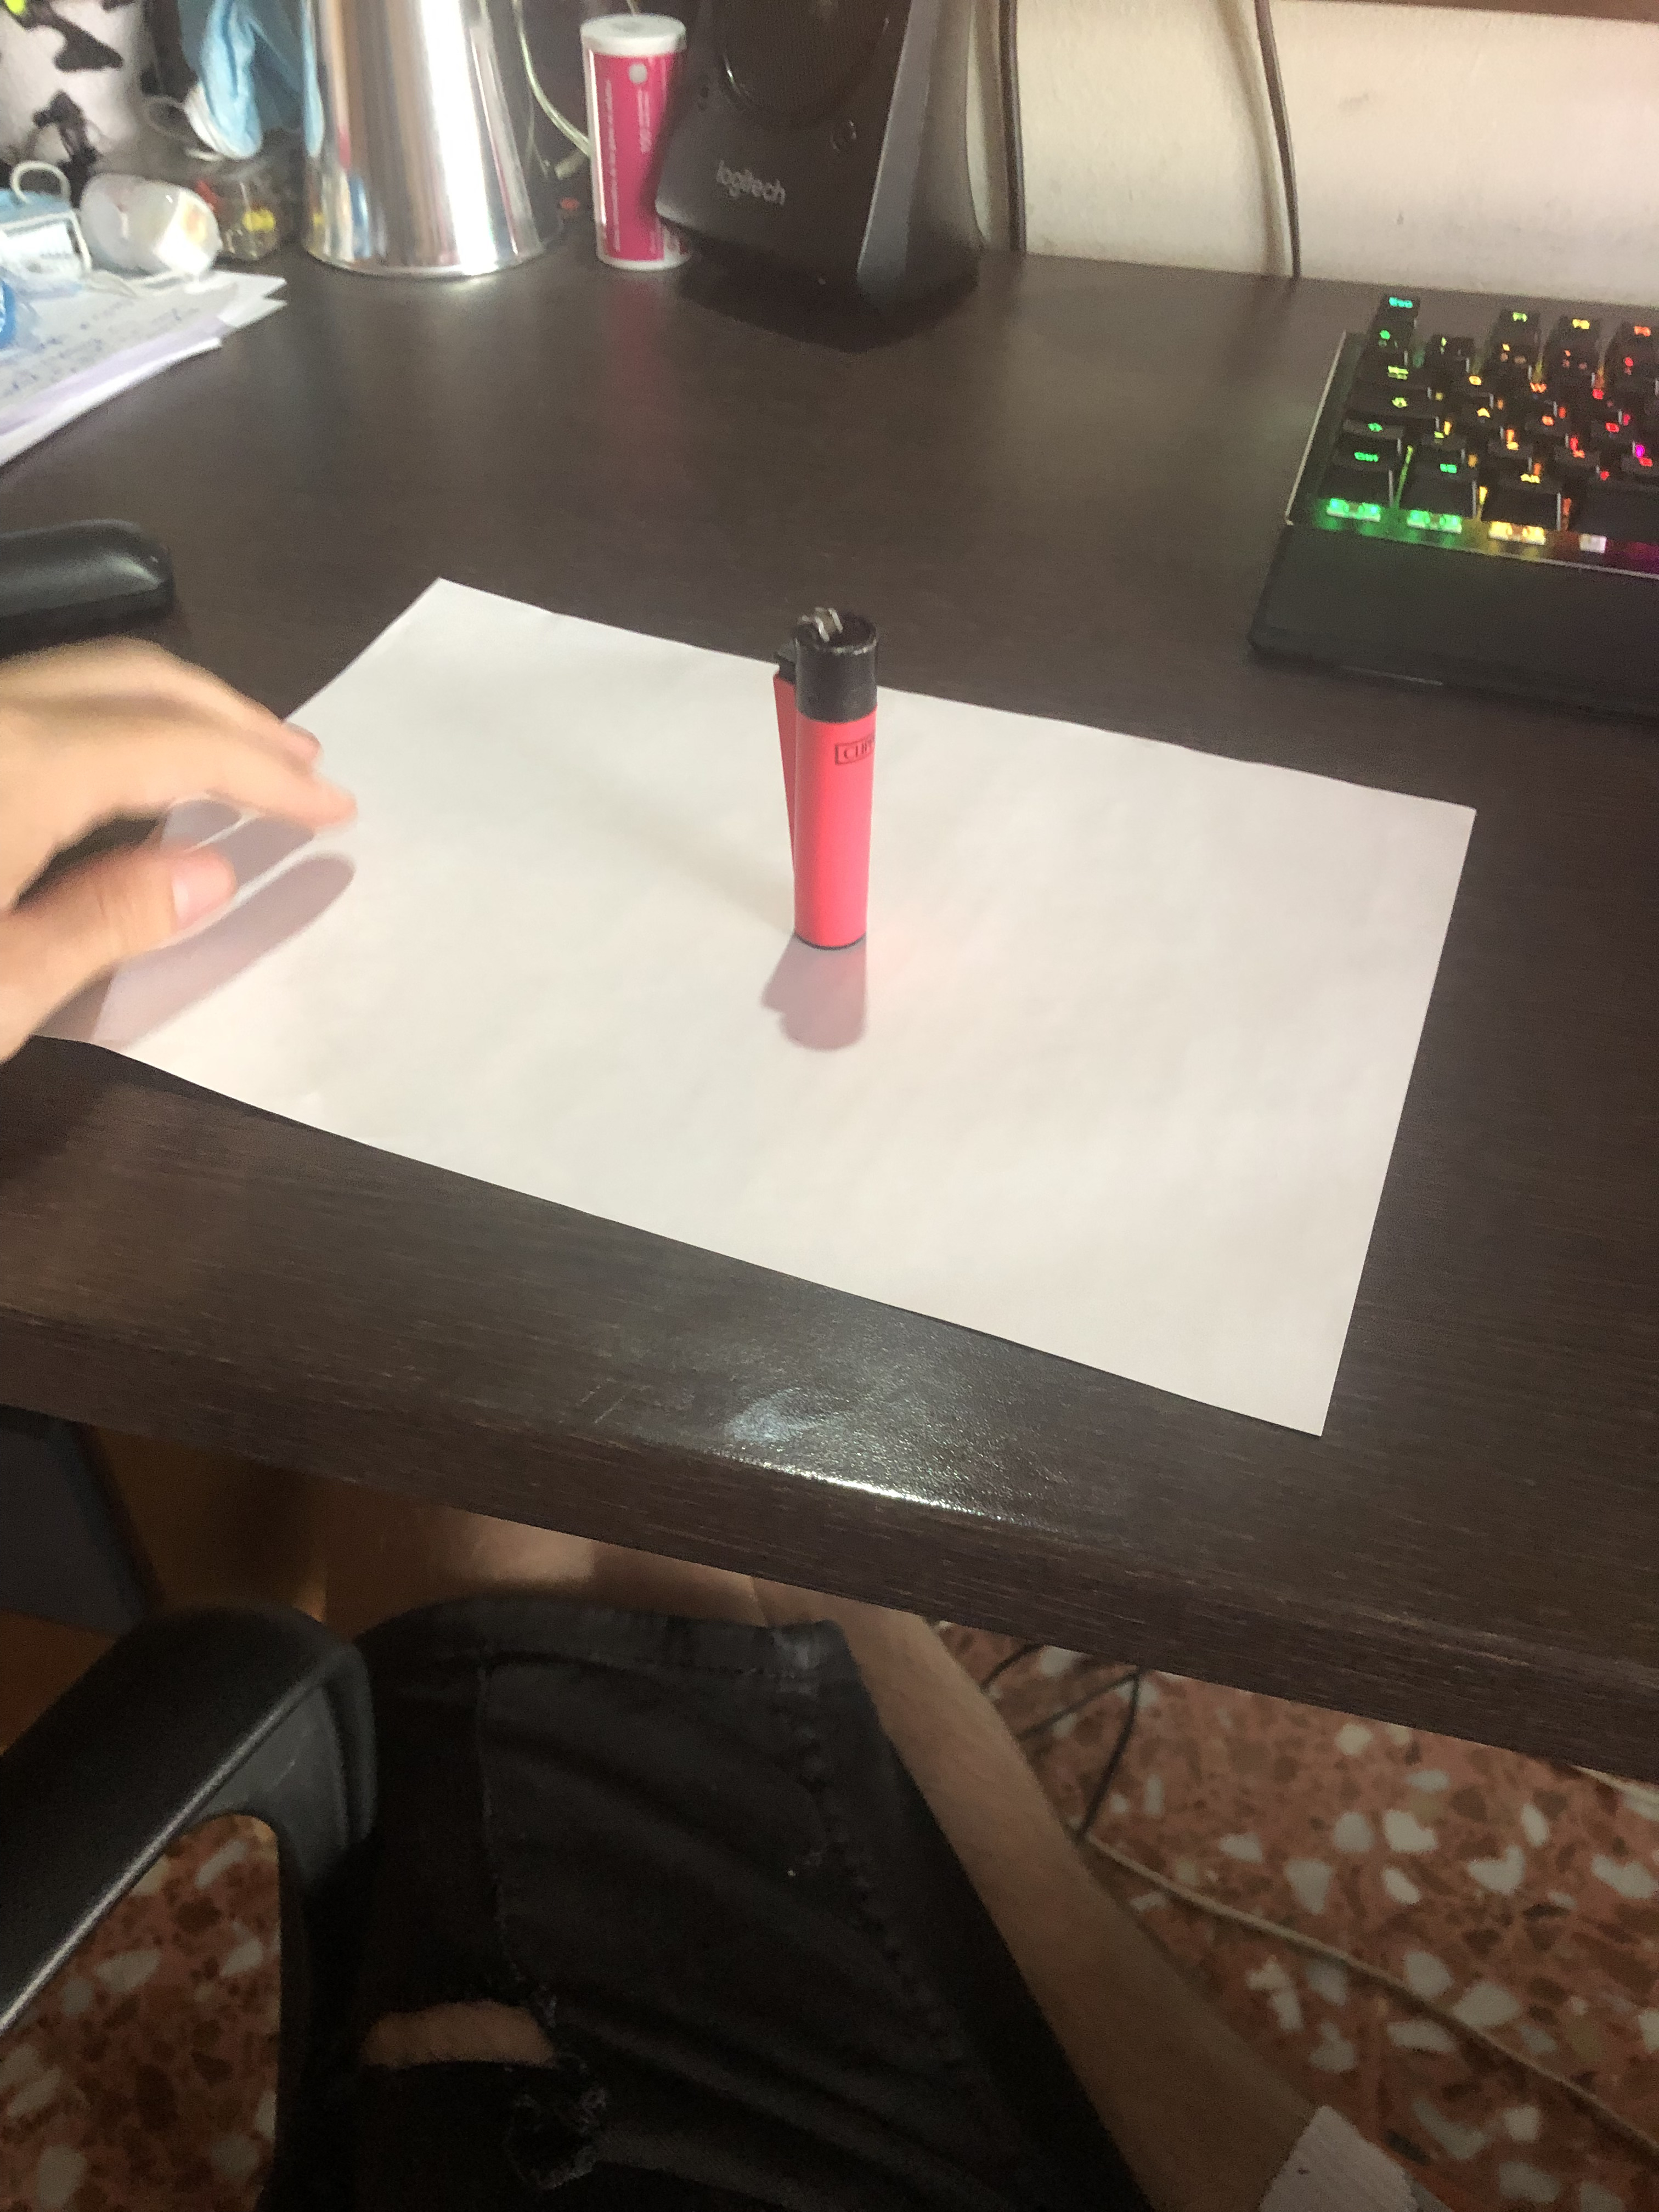Mechero: (775, 594, 885, 965)
